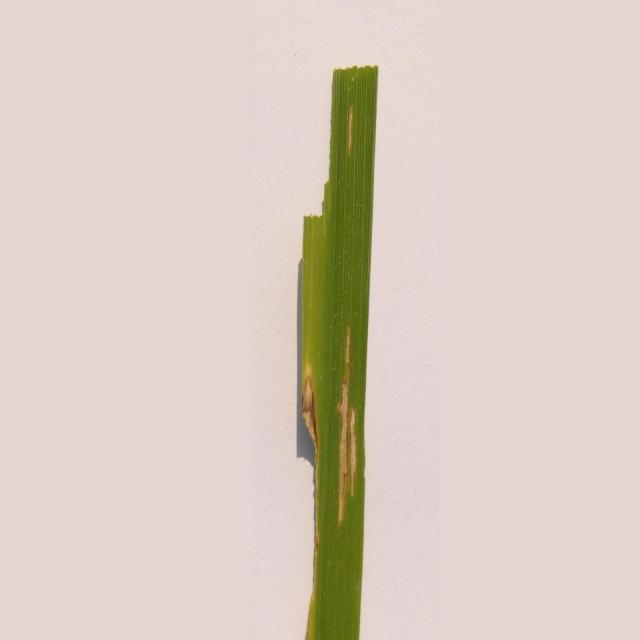leaf blight: (297, 328, 363, 521), (337, 96, 376, 160)
